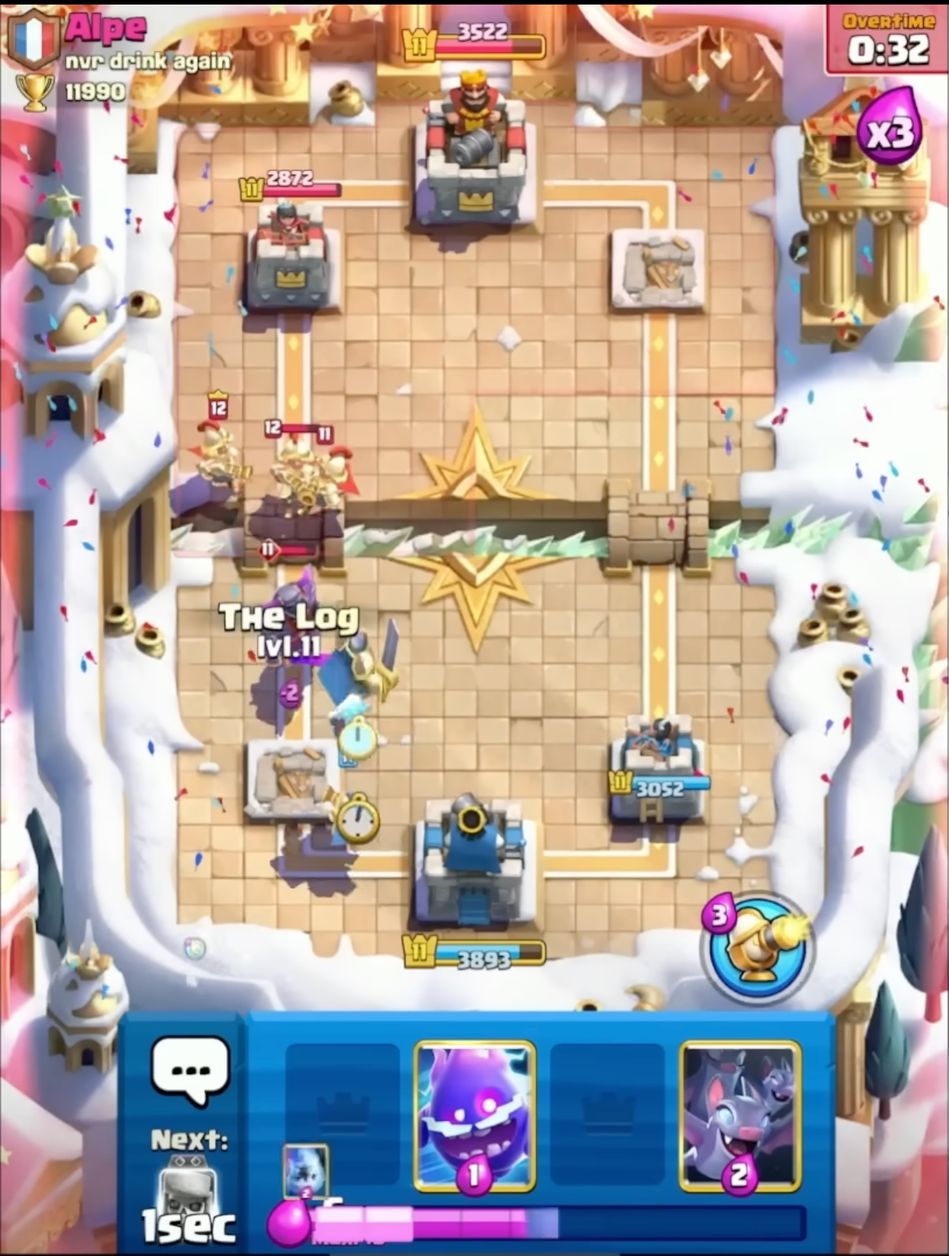hero-musketeer: (190, 381, 257, 506), (257, 414, 320, 509), (311, 420, 360, 532)
